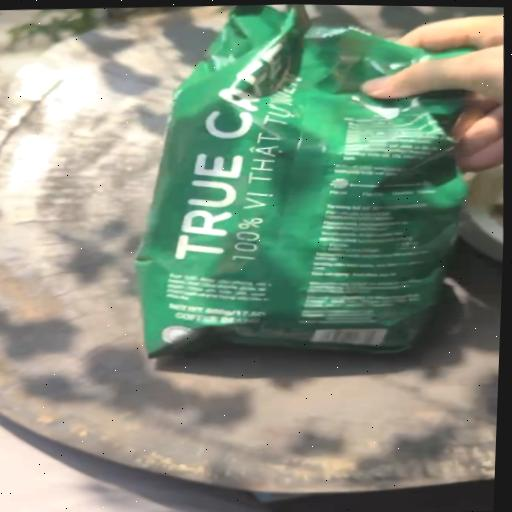cafe_xay: (135, 4, 465, 356)
